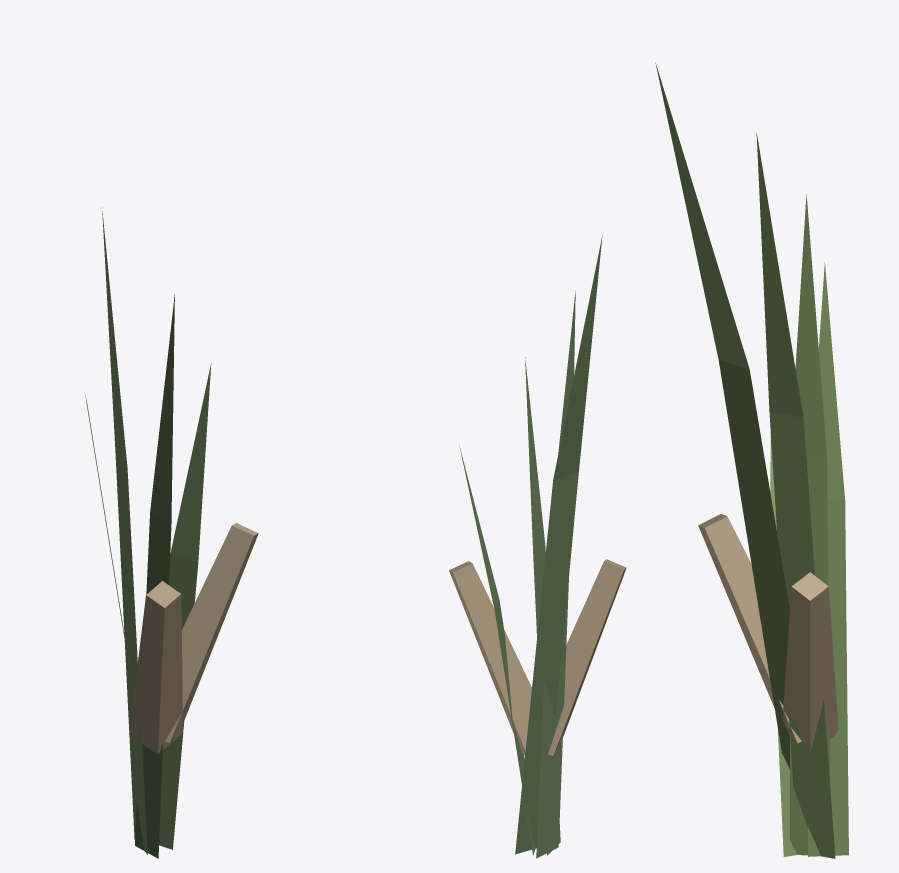
The model's file is shui.changpu__spring.glb.
3 renders of one model, left to right at view 1: azimuth 30°, elevation 25°; view 2: azimuth 150°, elevation 25°; view 3: azimuth 270°, elevation 25°, orthographic. The views are drawn at different scales.
Visible parts, largest first — view 1: shui.changpu__spring; view 2: shui.changpu__spring; view 3: shui.changpu__spring.
Part boxes in pixels (bbox=[...]): shui.changpu__spring: bbox=[84, 207, 258, 858]; shui.changpu__spring: bbox=[449, 236, 626, 858]; shui.changpu__spring: bbox=[655, 62, 848, 858].
Size of the model in its own units: 0.5859 by 1.62 by 0.3823.
